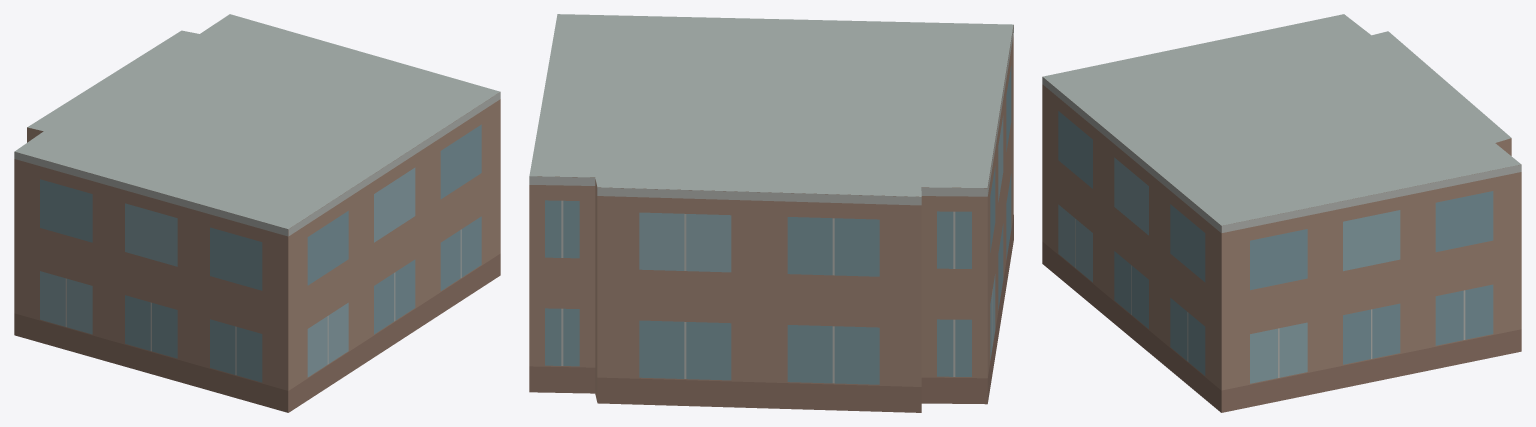
File: survey-upis-32945416.glb
The picture shows the model from 3 angles, left to right: view 1: azimuth 30°, elevation 25°; view 2: azimuth 150°, elevation 25°; view 3: azimuth 270°, elevation 25°; orthographic projection. The views are drawn at different scales.
Parts seen in each view (by area): view 1: survey-upis-32945416.tmp; view 2: survey-upis-32945416.tmp; view 3: survey-upis-32945416.tmp.
Boxes of the visible parts, x1,y1,x2,y2 form: survey-upis-32945416.tmp: (14,14,500,412); survey-upis-32945416.tmp: (529,14,1013,412); survey-upis-32945416.tmp: (1042,14,1521,412).
Bounding box in the file's own units: 14.81 × 6.1 × 14.17.
